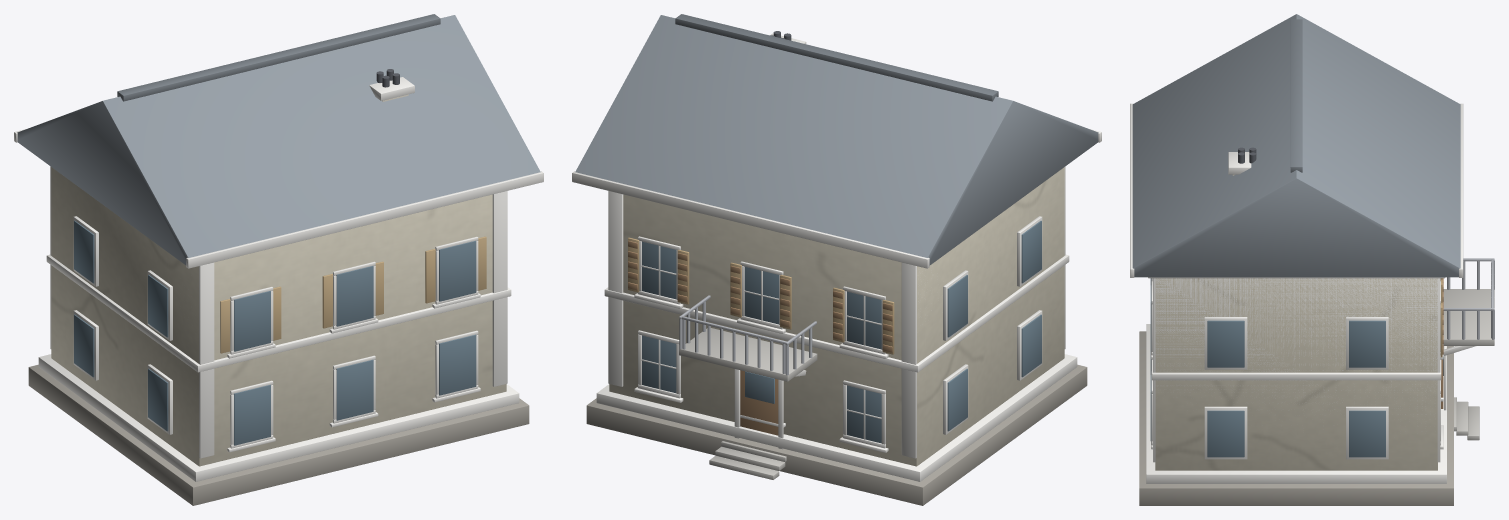
Rendered from th47_villa_giebel.glb.
The picture shows the model from 3 angles, left to right: view 1: azimuth 30°, elevation 25°; view 2: azimuth 150°, elevation 25°; view 3: azimuth 270°, elevation 25°; orthographic projection. The views are drawn at different scales.
Visible parts, largest first — view 1: Satteldach, Cube.002, Cube, Cube.001, Cube.214, Cube.216, Cube.005, Cube.003, Cube.004, Cube.031, Cube.047, Cube.167 (+11 smaller); view 2: Satteldach, Cube.002, Cube, Cube.001, Cube.215, Cube.216, Cube.005, Cube.208, Cube.003, Cube.004, Cube.067, Cube.147 (+11 smaller); view 3: Satteldach, Cube.002, Cube.004, Cube, Cube.001, Cube.005, Cube.208, Cube.216, Cube.063, Cube.195, Cube.066, Cube.198 (+9 smaller).
Part boxes in pixels (x1,y1,x2,y2): Satteldach: (17,15,540,265); Cube.002: (51,167,506,466); Cube: (28,364,529,505); Cube.001: (38,354,519,481); Cube.214: (186,171,543,268); Cube.216: (117,14,440,101); Cube.005: (46,254,511,372); Cube.003: (50,166,214,458); Cube.004: (492,191,507,386); Cube.031: (336,359,373,420); Cube.047: (439,334,476,395); Cube.167: (439,240,476,301); Satteldach: (575,15,1098,265); Cube.002: (609,167,1064,466); Cube: (586,364,1087,505); Cube.001: (596,354,1077,481); Cube.215: (572,171,929,268); Cube.216: (675,14,998,101); Cube.005: (604,254,1069,372); Cube.208: (679,328,817,381); Cube.003: (901,166,1065,458); Cube.004: (608,191,623,386); Cube.067: (847,291,881,349); Cube.147: (642,241,676,299); Satteldach: (1132,14,1460,277); Cube.002: (1155,278,1437,470); Cube.004: (1153,278,1440,462); Cube: (1139,331,1453,505); Cube.001: (1146,324,1446,483); Cube.005: (1152,359,1441,380); Cube.208: (1443,289,1494,345); Cube.216: (1290,19,1302,172); Cube.063: (1207,410,1244,457); Cube.195: (1207,320,1244,367); Cube.066: (1349,410,1385,457); Cube.198: (1349,320,1385,367).
Size of the model in its own units: 11.1 by 10.44 by 10.32.
Materials: 12 (1 with a texture image).
